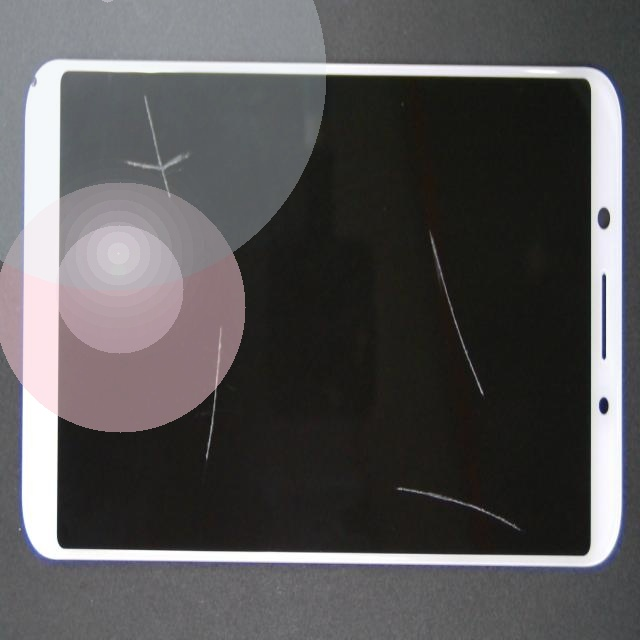scratch: (209, 11, 640, 408), (333, 282, 640, 640), (119, 71, 309, 545), (71, 81, 238, 294)
